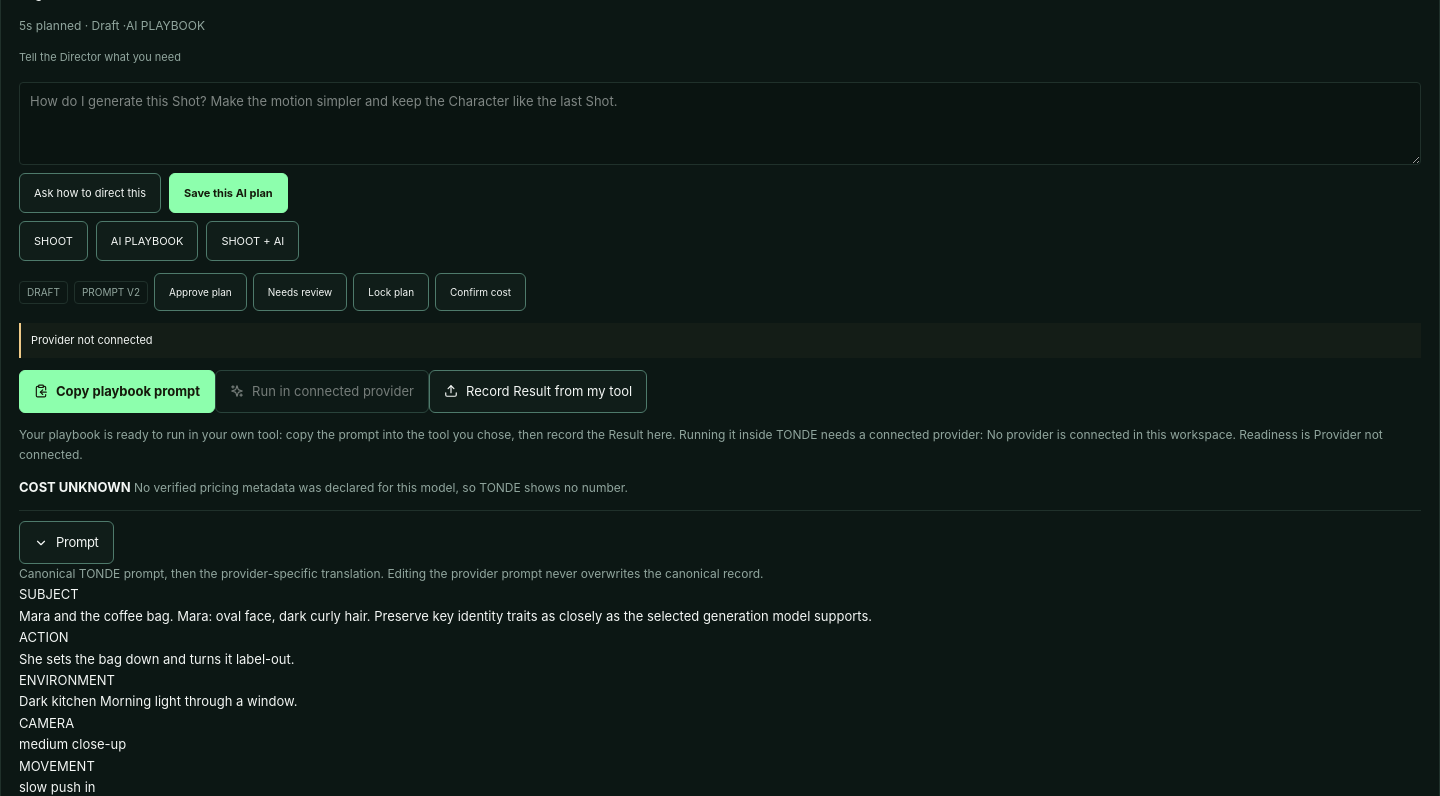
AI Creation surface › reports an idempotent retry as not billed twice
(page scrolled)
Click the button "Record Result from my tool".
click(538, 391)  # box [429, 370, 647, 413]
(page scrolled)
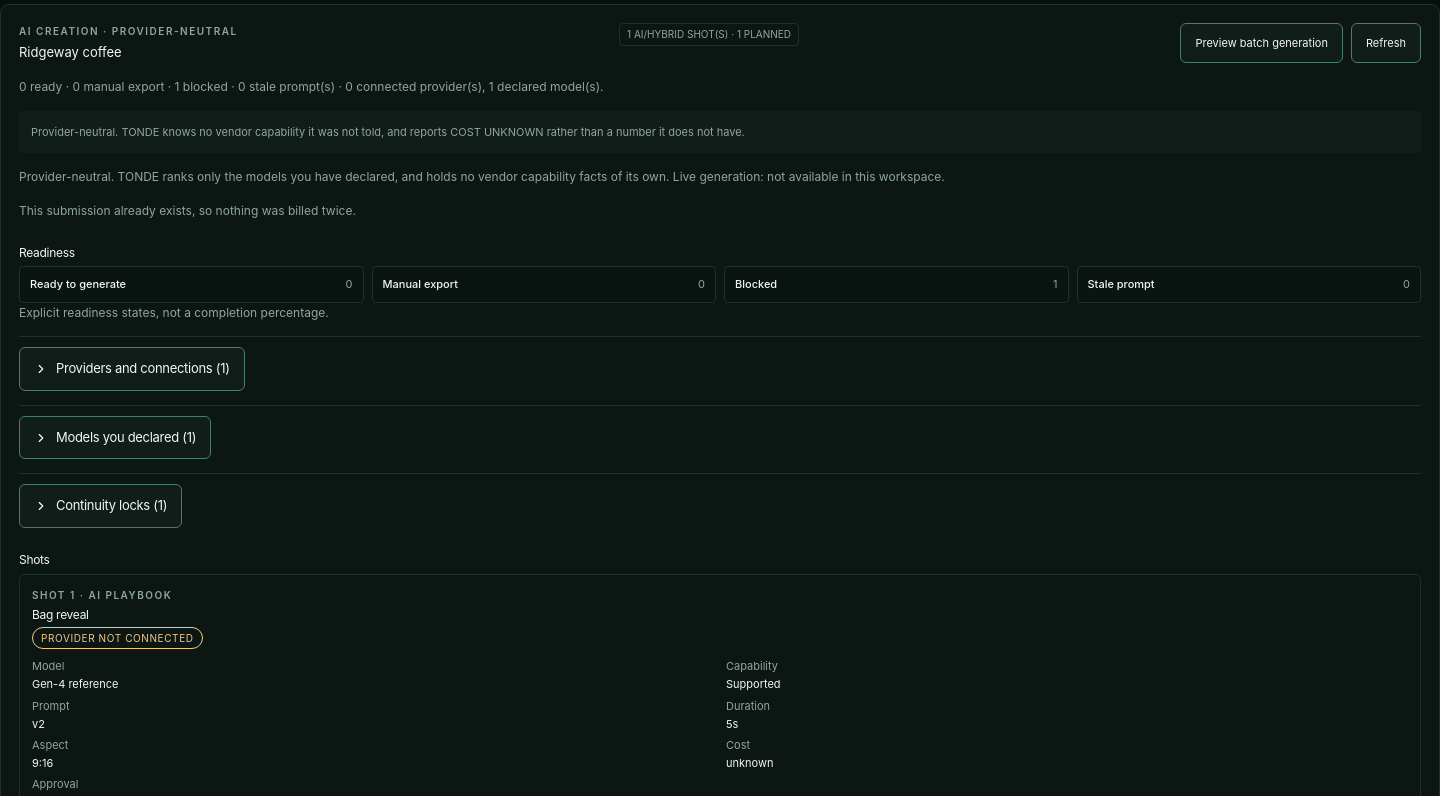
Check: the text "This submission already exists, so nothing was billed twice." is shown, box [19, 203, 356, 218]
